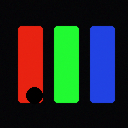2 circle: (26, 87, 42, 103)
